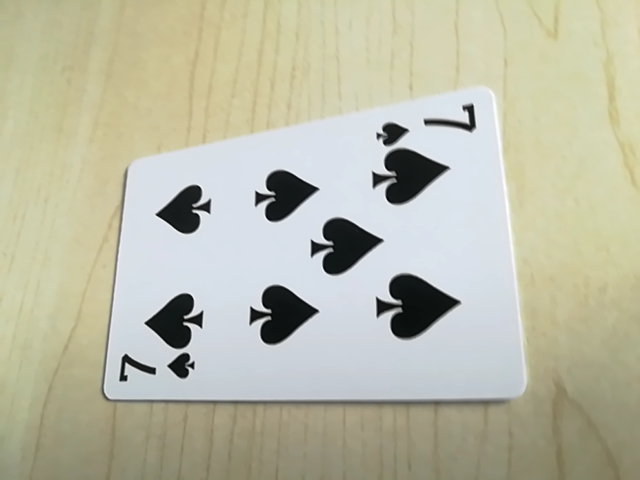ht 7: (368, 100, 484, 144), (111, 350, 200, 392)
